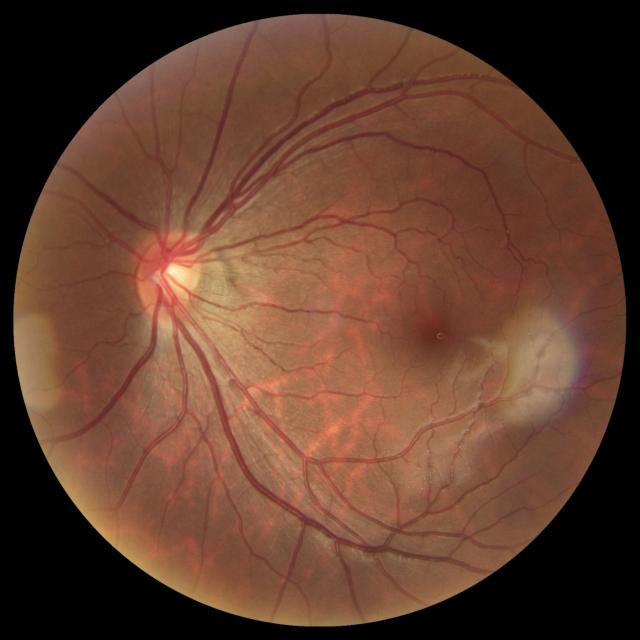OC: (157, 258, 186, 288)
OD: (136, 230, 204, 312)
